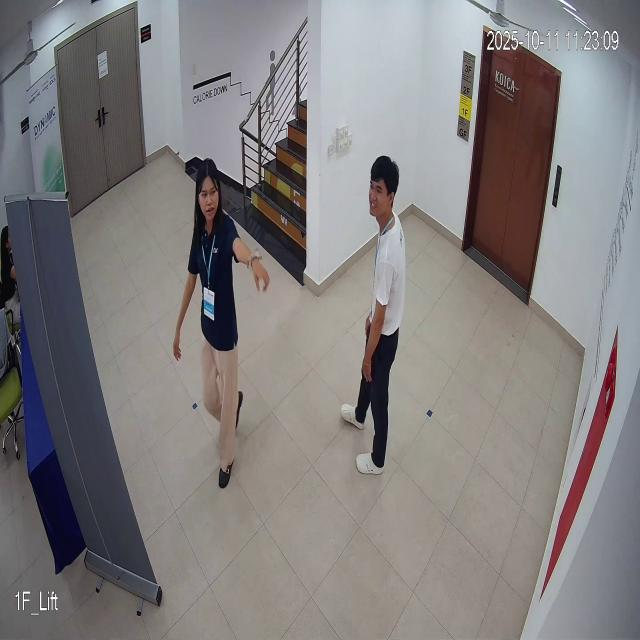face: (363, 148, 405, 232), (190, 154, 228, 232)
